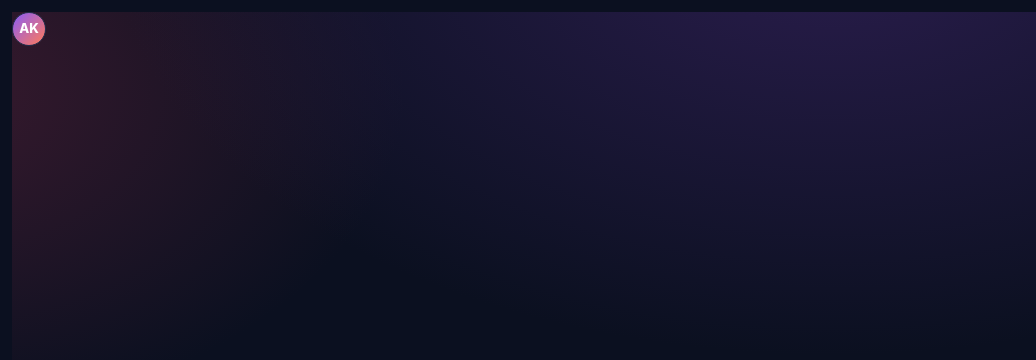
Test case: <AccountMenu> › opens with who you are, account links and a POST sign-out
Click the button with aria-label "account menu" at (29, 29), box [12,12,46,46]
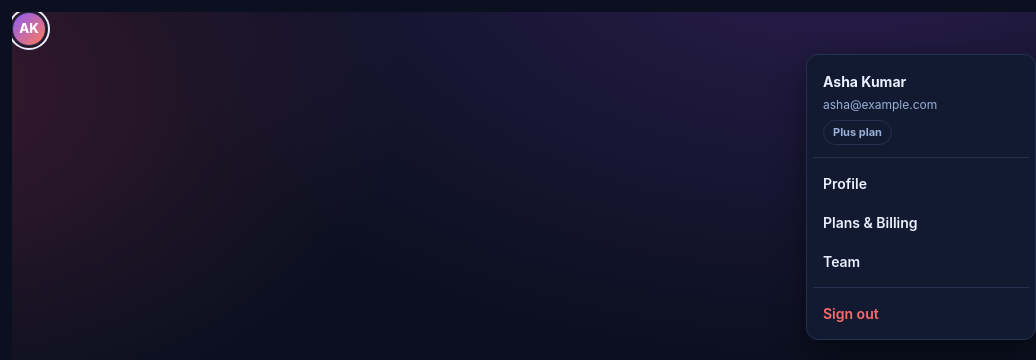
Now the menu is shown, box [806,54,1035,340]
Now the text "Asha Kumar" is shown, box [823,73,906,90]
Now the text "asha@example.com" is shown, box [823,97,937,112]
